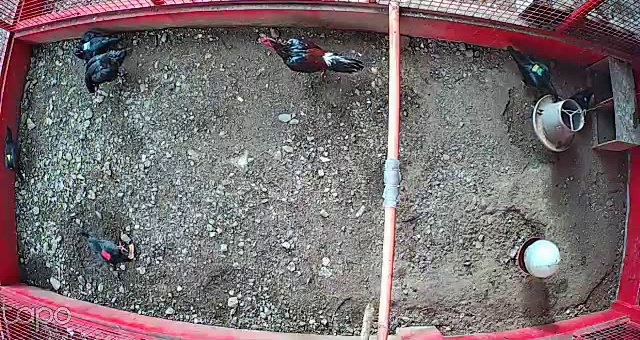Chicken: (502, 43, 565, 105), (74, 223, 135, 272), (82, 47, 134, 97), (68, 27, 132, 66), (2, 125, 33, 187), (563, 83, 604, 116)
Rooster: (258, 31, 364, 82)
Saddle_Color_Red: (99, 248, 110, 258)
Saddle_Color_White: (84, 40, 91, 50)
Saddle_Color_Yellow: (6, 153, 14, 162)
Saddle_Color_YellowGreen: (529, 62, 545, 77)
